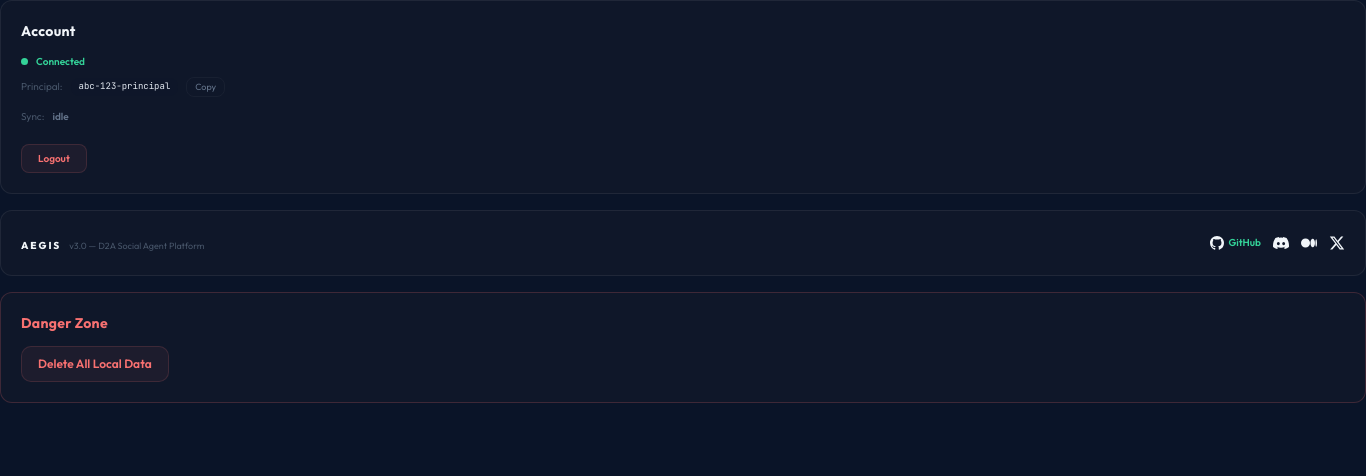
Test: AccountSection — Danger Zone delete flow › Confirm Delete button enables when DELETE is typed
Click the button "Delete All Local Data" at (95, 364), box [21,346,169,382]
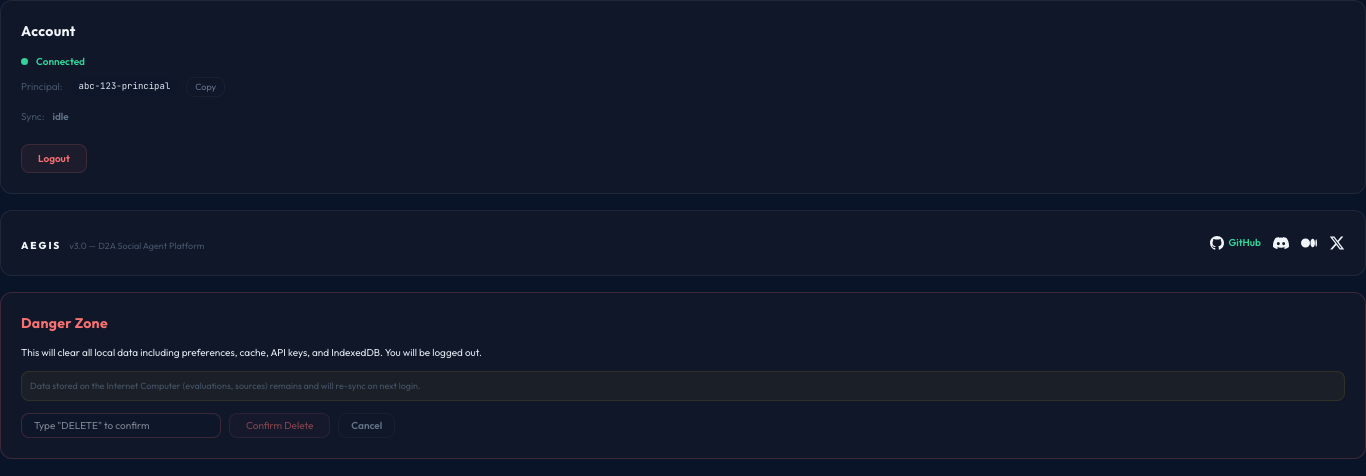
Type "DELETE" into the field with placeholder "Type \"DELETE\" to confirm" at (121, 425), box [21,412,221,438]
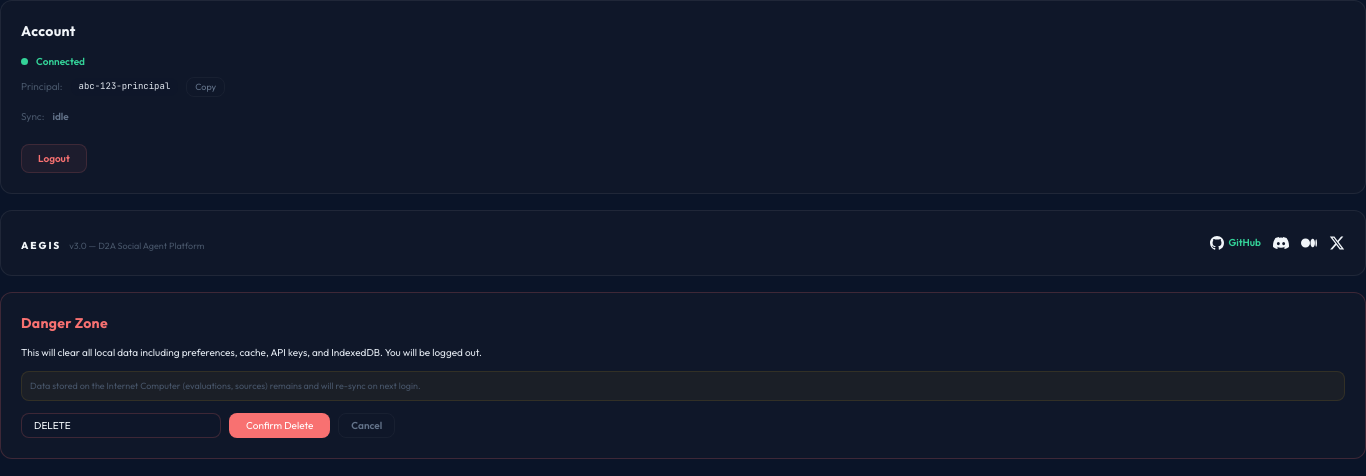
Expected: the button "Confirm Delete" is enabled, [229,412,330,438]
